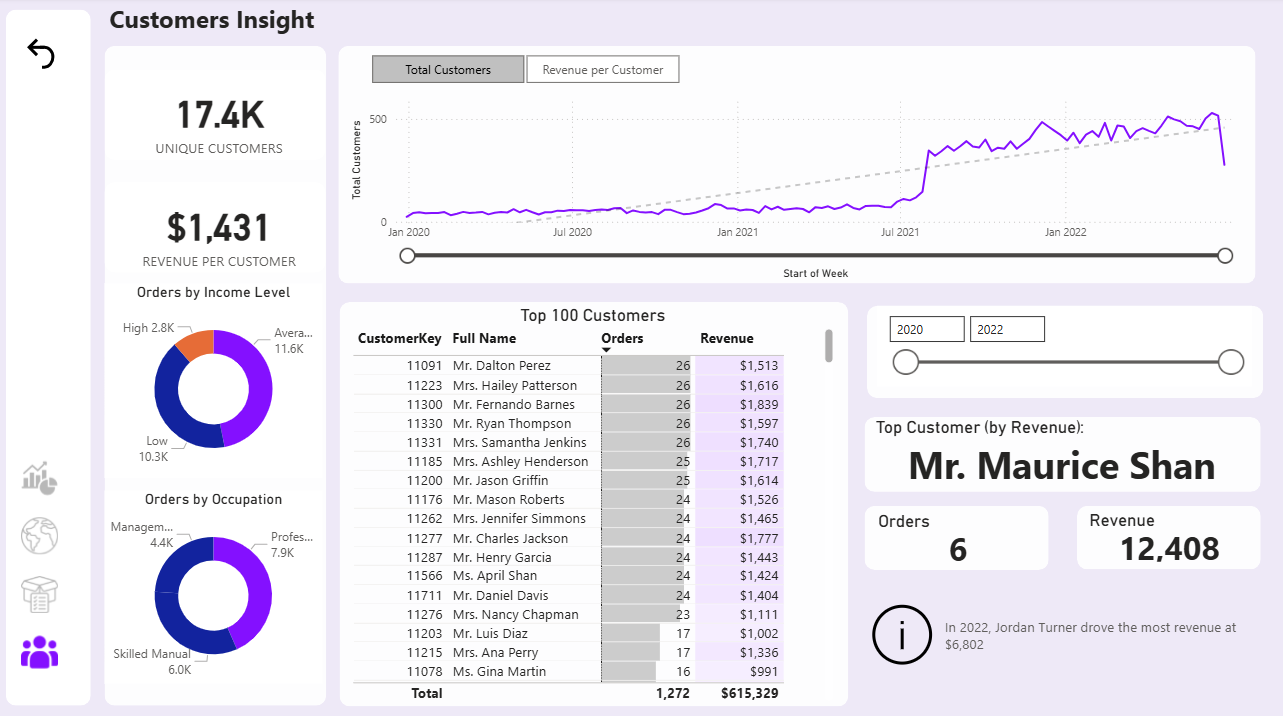

The dashboard page shown, as its layout file describes it:
{"tool":"powerbi","page":{"name":"Customer Detail","canvas":[1280,720],"ordinal":3},"visuals":[{"type":"shape","box":[865.8,307.3,394.3,92.1],"z":0},{"type":"actionButton","box":[20.6,455.9,44.7,44.7],"z":0,"group":"g1"},{"type":"shape","box":[340.5,303,506.4,402.5],"z":1000},{"type":"actionButton","box":[20.5,513.4,45,45],"z":1000,"group":"g1"},{"type":"shape","box":[106.8,48.1,220.7,656.7],"z":2000},{"type":"actionButton","box":[20.5,571.2,45,45],"z":2000,"group":"g1"},{"type":"shape","box":[339.9,48.1,913,236.7],"z":3000},{"type":"actionButton","box":[20.5,629,45,45],"z":3000,"group":"g1"},{"type":"shape","box":[1075.3,506.5,182.9,63.4],"z":4000},{"type":"shape","box":[863.3,506.6,183.5,64],"z":5000},{"type":"shape","box":[863.8,418.2,394.3,74.6],"z":6000},{"type":"shape","box":[107.3,72.4,220,90],"z":7000},{"type":"shape","box":[107.3,183.9,220,90],"z":8000},{"type":"shape","title":"Nav Shape","box":[8.7,12.4,84.6,692.9],"z":9000},{"type":"card","fields":{"Values":["Measure table.Total Customers"]},"box":[117.7,72.5,206.3,101],"z":10000},{"type":"card","fields":{"Values":["Measure table.Average Revenue per Customer"]},"box":[117.7,183.9,206.3,101],"z":11000},{"type":"lineChart","title":"Weekly Customers","fields":{"Y":["Measure table.Total Customers"],"Category":["Calendar Lookup.Date Hierarchy.Start of Year","Calendar Lookup.Date Hierarchy.Start of Month","Calendar Lookup.Date Hierarchy.Start of Week","Calendar Lookup.Date Hierarchy.Date"]},"box":[347.1,87.1,900.6,197.8],"z":12000},{"type":"donutChart","title":"Orders by Income Level","fields":{"Y":["Measure table.Total Orders"],"Category":["Customer Lookup.Income Level"]},"box":[106.8,284.8,217.1,194],"z":13000},{"type":"donutChart","title":"Orders by Occupation","fields":{"Y":["Measure table.Total Orders"],"Category":["Customer Lookup.Occupation"]},"box":[106.8,491.2,217.1,192.2],"z":14000},{"type":"tableEx","title":"Top 100 Customers","fields":{"Values":["Customer Lookup.CustomerKey","Customer Lookup.Full Name","Measure table.Total Orders","Measure table.Total Revenue"]},"box":[347.7,305.9,489.1,399.6],"z":15000},{"type":"card","title":"Top Customer (by Revenue):","fields":{"Values":["Measure table.Full Name (Customers Detail)"]},"box":[870,418,380.7,75.9],"z":16000},{"type":"card","title":"Revenue","fields":{"Values":["Measure table.Total Revenue (Customers Detail)"]},"box":[1082.3,509.4,169.2,56.9],"z":17000},{"type":"card","title":"Orders","fields":{"Values":["Measure table.Total Orders (Customers Detail)"]},"box":[871.8,510.8,169.2,56.9],"z":18000},{"type":"slicer","fields":{"Values":["Calendar Lookup.Date.Variation.Date Hierarchy.Year"]},"box":[875.7,307.3,373.2,79.6],"z":19000},{"type":"actionButton","box":[863.7,597,393.9,75],"z":20000},{"type":"actionButton","box":[23.1,36.1,54.8,40.4],"z":21000},{"type":"group","id":"g1","title":"Nav Buttons","box":[20.5,455.9,45,218.1],"z":22000},{"type":"slicer","fields":{"Values":["Customer Metric Selection.Customer Metric Selection"]},"box":[347.1,51,355.8,41.1],"z":23000},{"type":"textbox","box":[107,0,319.7,59.7],"z":24000}]}

Visuals, with their boxes in screenshot pixels (x1, y1, x2, y2), scaled from the page's 1280x720 canvas onto the 1283x716 screenshot:
shape: BBox(868, 306, 1263, 397)
actionButton: BBox(21, 453, 65, 498)
shape: BBox(341, 301, 849, 702)
actionButton: BBox(21, 511, 66, 555)
shape: BBox(107, 48, 328, 701)
actionButton: BBox(21, 568, 66, 613)
shape: BBox(341, 48, 1256, 283)
actionButton: BBox(21, 626, 66, 670)
shape: BBox(1078, 504, 1261, 567)
shape: BBox(865, 504, 1049, 567)
shape: BBox(866, 416, 1261, 490)
shape: BBox(108, 72, 328, 161)
shape: BBox(108, 183, 328, 272)
"Nav Shape" shape: BBox(9, 12, 94, 701)
card - Measure table.Total Customers: BBox(118, 72, 325, 173)
card - Measure table.Average Revenue per Customer: BBox(118, 183, 325, 283)
"Weekly Customers" lineChart: BBox(348, 87, 1251, 283)
"Orders by Income Level" donutChart: BBox(107, 283, 325, 476)
"Orders by Occupation" donutChart: BBox(107, 488, 325, 680)
"Top 100 Customers" tableEx: BBox(349, 304, 839, 702)
"Top Customer (by Revenue):" card: BBox(872, 416, 1254, 491)
"Revenue" card: BBox(1085, 507, 1254, 563)
"Orders" card: BBox(874, 508, 1043, 565)
slicer - Calendar Lookup.Date.Variation.Date Hierarchy.Year: BBox(878, 306, 1252, 385)
actionButton: BBox(866, 594, 1261, 668)
actionButton: BBox(23, 36, 78, 76)
"Nav Buttons" group: BBox(21, 453, 66, 670)
slicer - Customer Metric Selection.Customer Metric Selection: BBox(348, 51, 705, 92)
textbox: BBox(107, 0, 428, 59)
